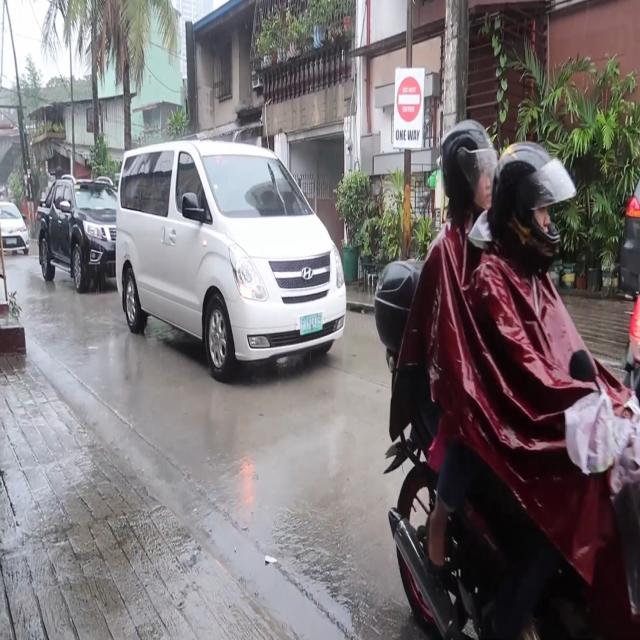full: (491, 142, 577, 272)
half: (442, 121, 497, 207)
